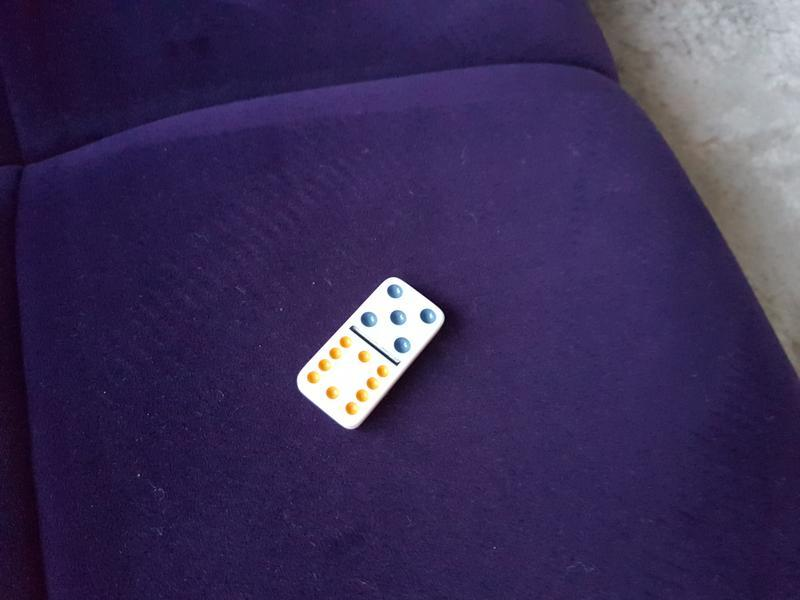Domino: (294, 274, 447, 432)
